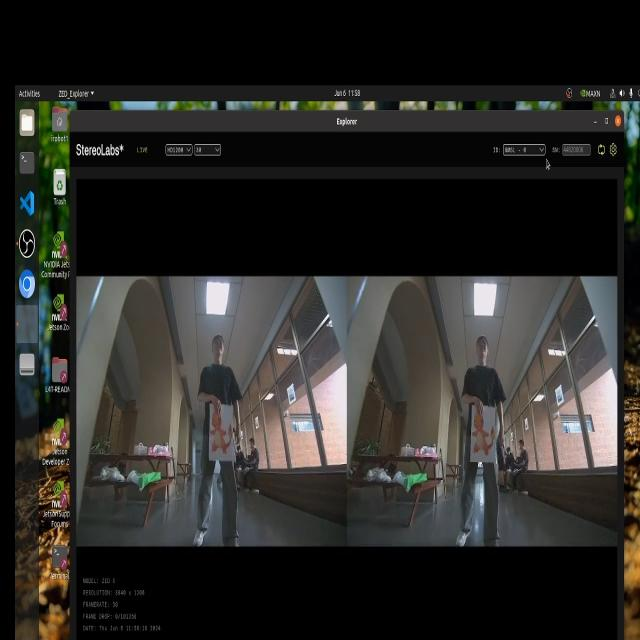red: (470, 408, 500, 475), (208, 404, 238, 456)
